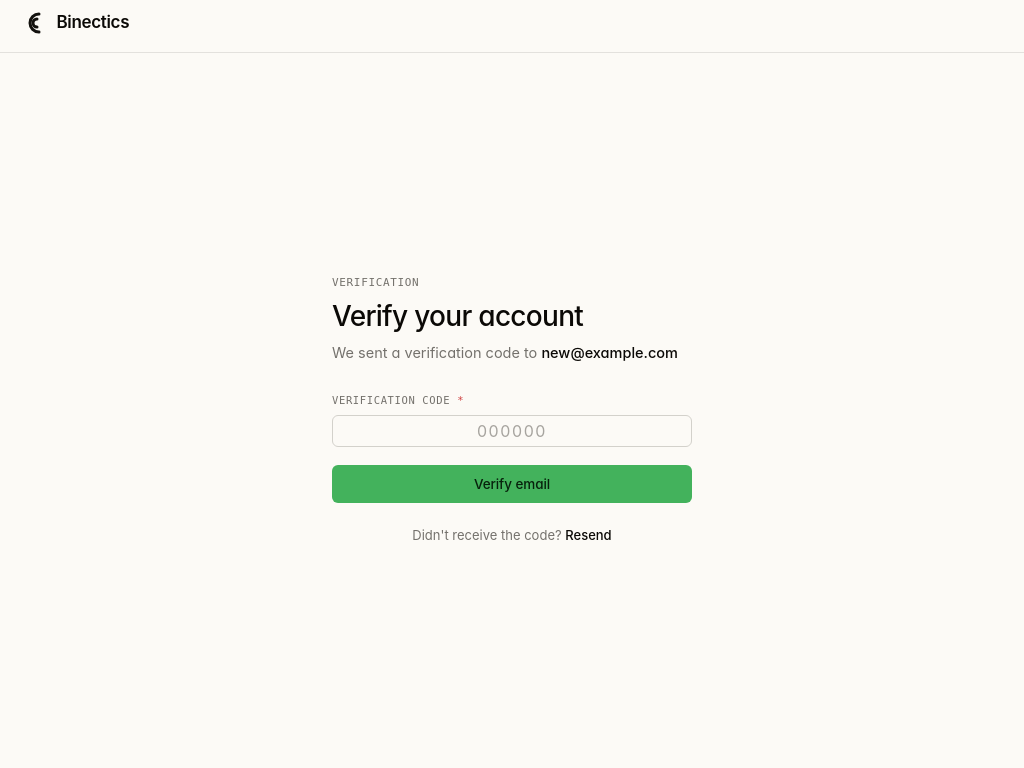
Test: verification page resend › keeps the code message for an ordinary resend
Click the button "Resend".
click(588, 536)  # box [565,526,612,545]
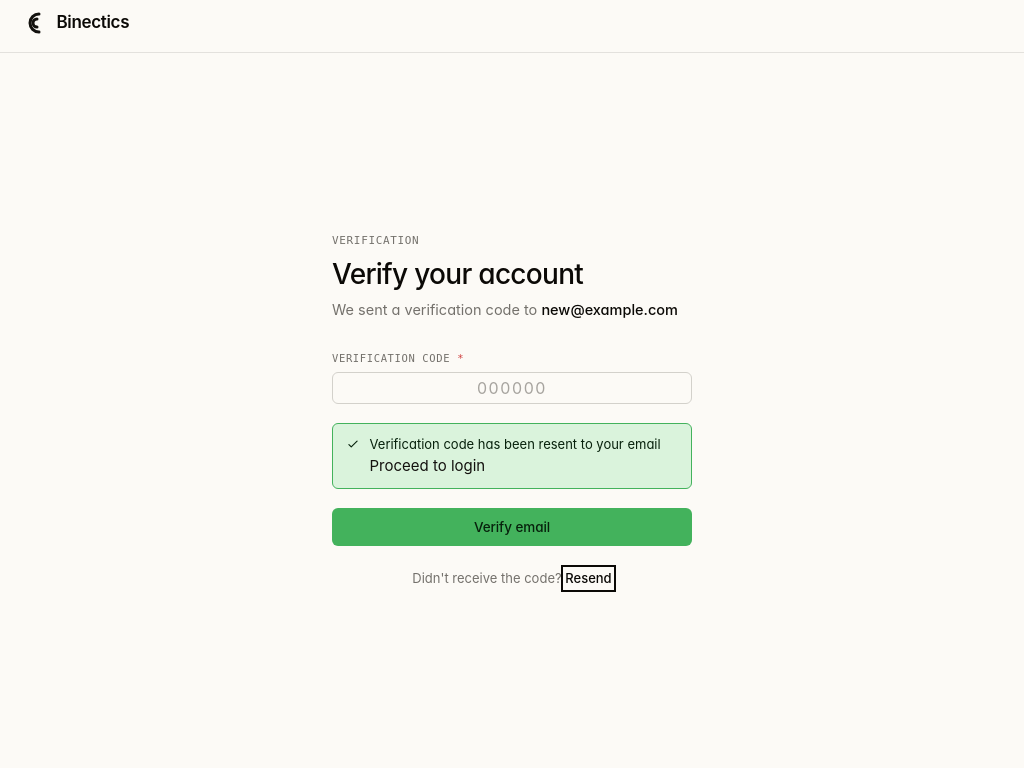
Expected: the text "Verification code has been resent to your email" is shown, [370,435,661,454]
